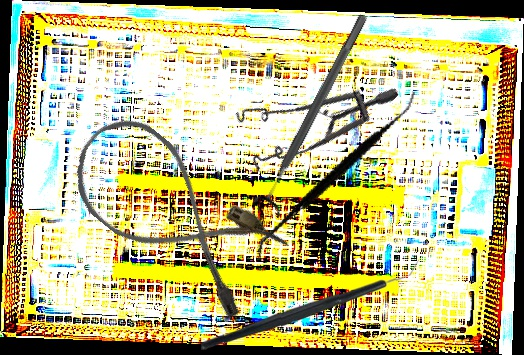Cannula: (53, 101, 295, 326)
Chopper: (201, 254, 419, 354)
Fixation Ring: (250, 8, 379, 219)
Spatula Surgical: (254, 64, 419, 288)
Speculum: (218, 21, 400, 204)
